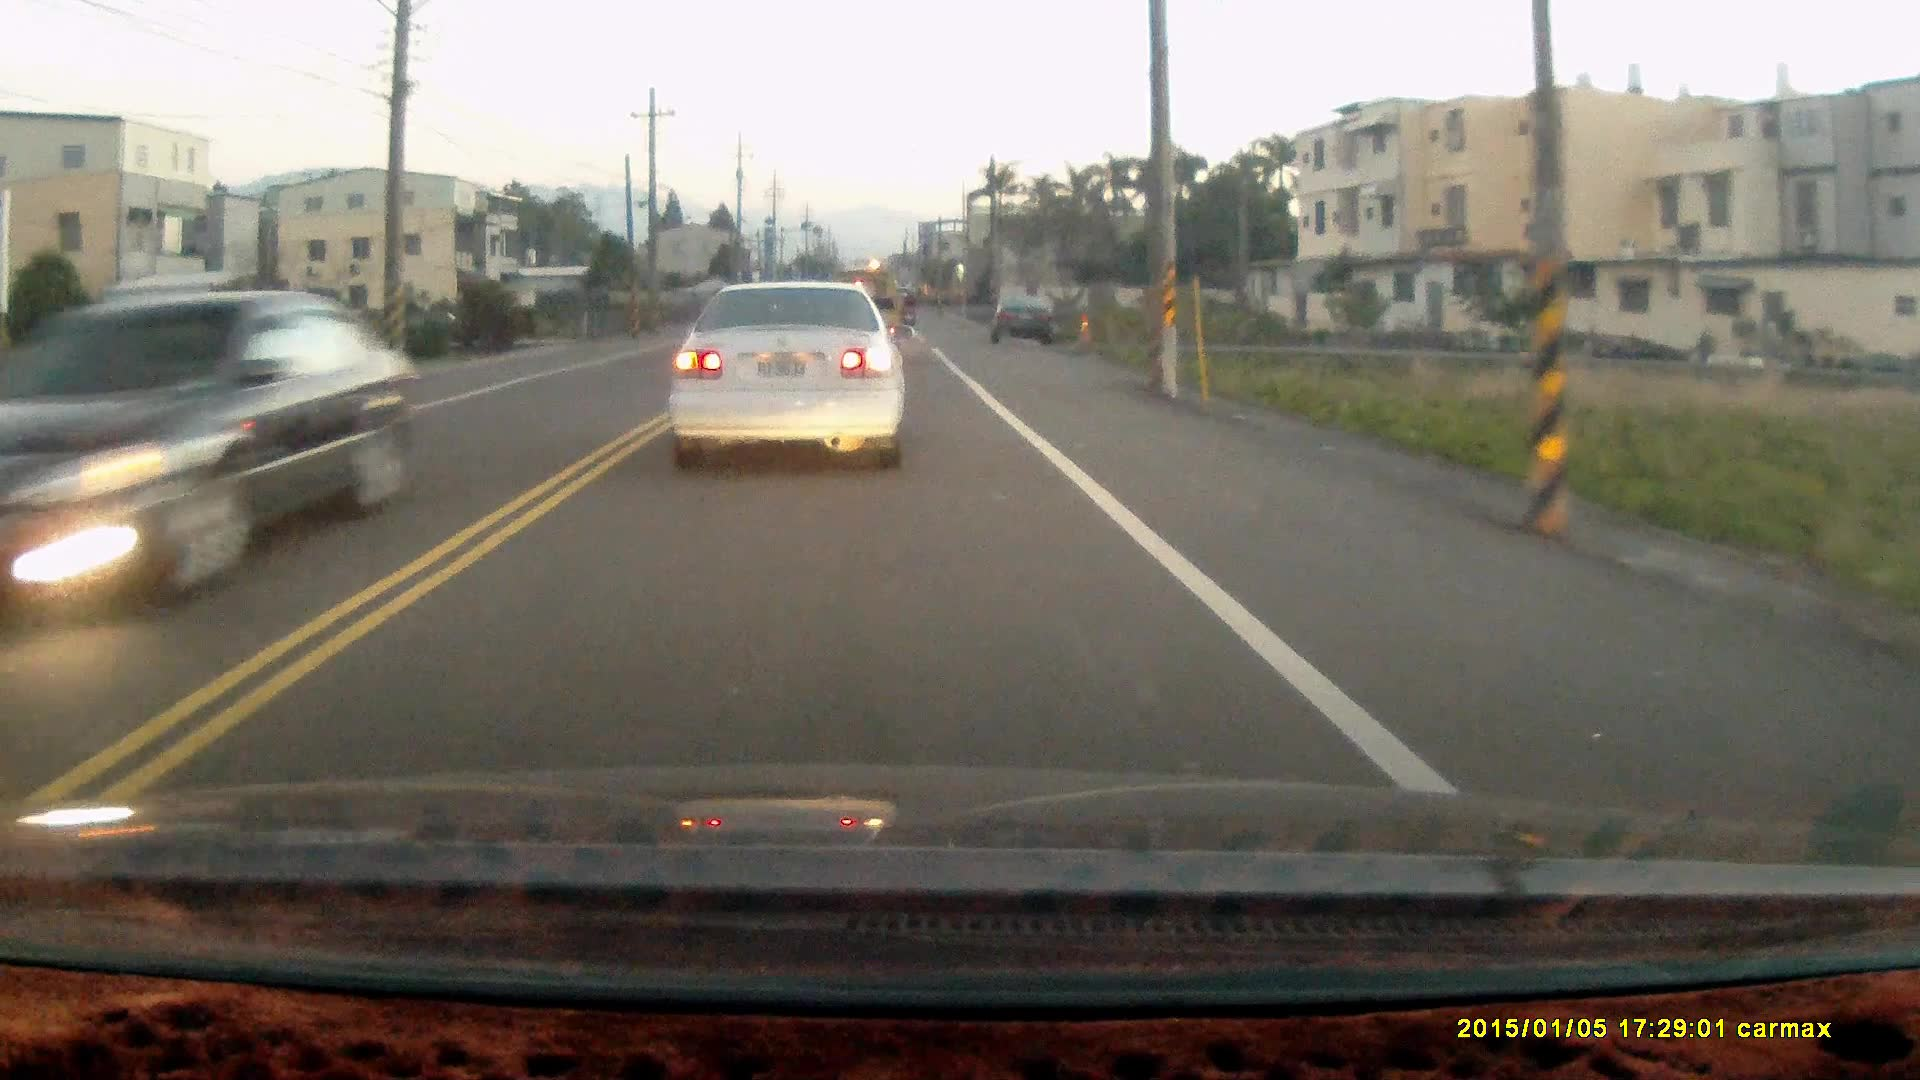vehicle: (5, 291, 431, 636), (666, 282, 909, 473), (996, 294, 1065, 353)
